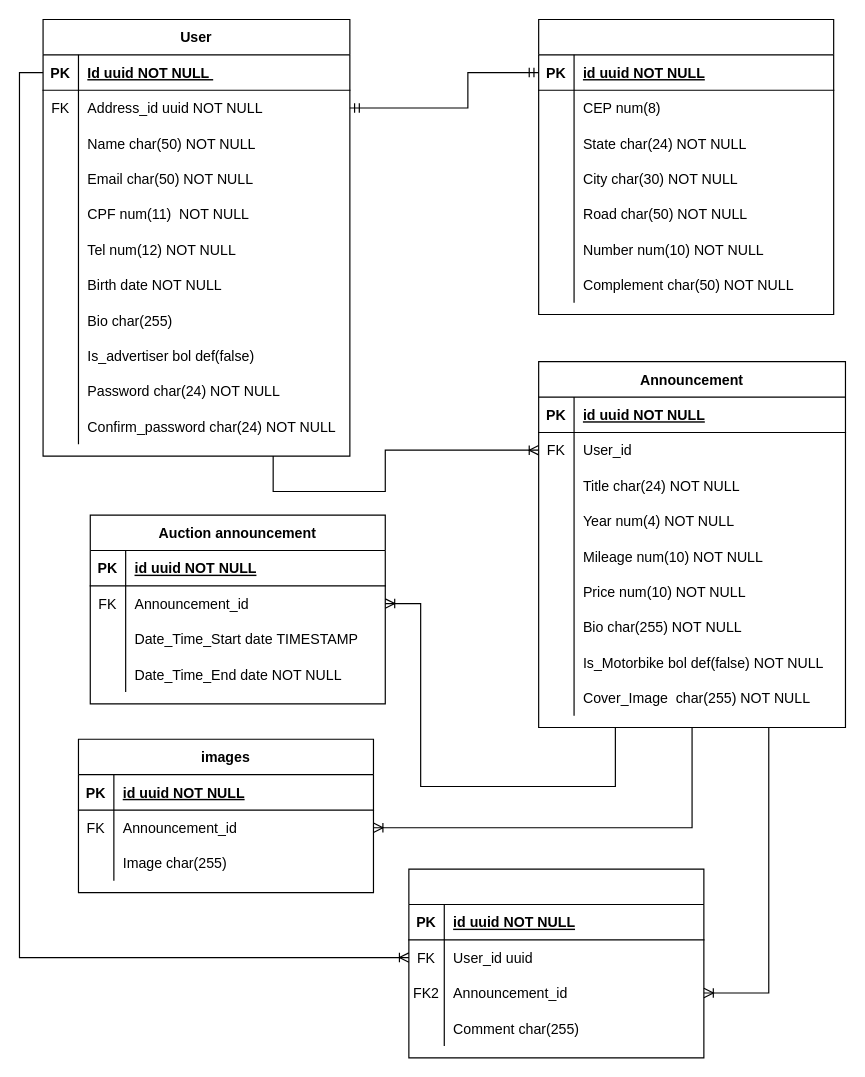
Image size: 865x1077. Some labels were removed from this diagram. The shapes that lost their labels are listed below. From the top down, each one's box as (x1, y1, x2, y2) in pixels, then its label:
(537, 18, 834, 314): Address
(408, 868, 704, 1058): Comments
